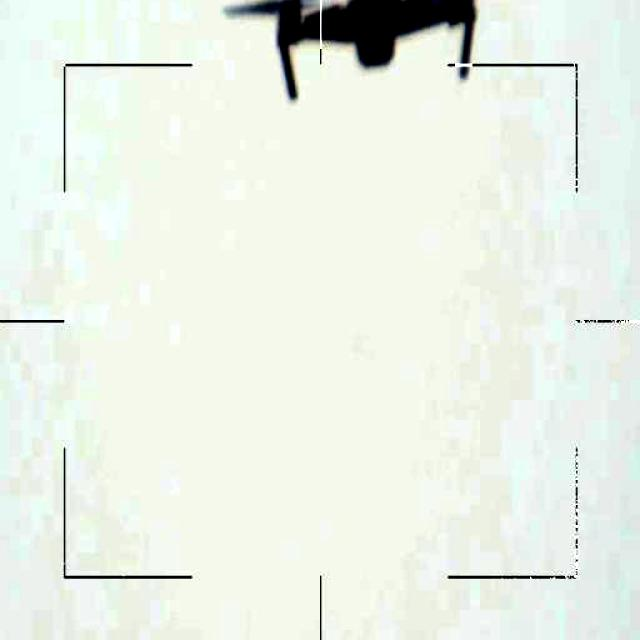bird: (220, 0, 521, 106)
